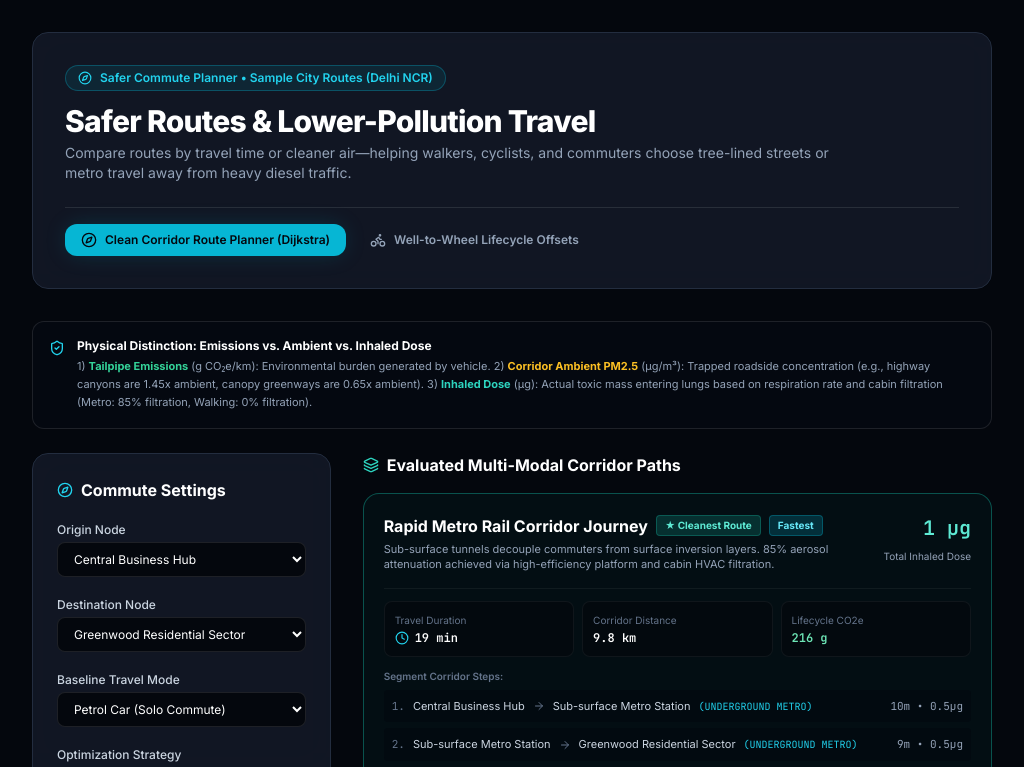
Interactive JSDOM Workbench Verification › MobilityWorkbench switches between Dijkstra routing and lifecycle offset tabs
Expected: the heading "Safer Routes & Lower-Pollution Travel" is shown, [65,103,595,139]
Click the button "Well-to-Wheel Lifecycle Offsets". click: (474, 240)
box: [354,224,595,256]
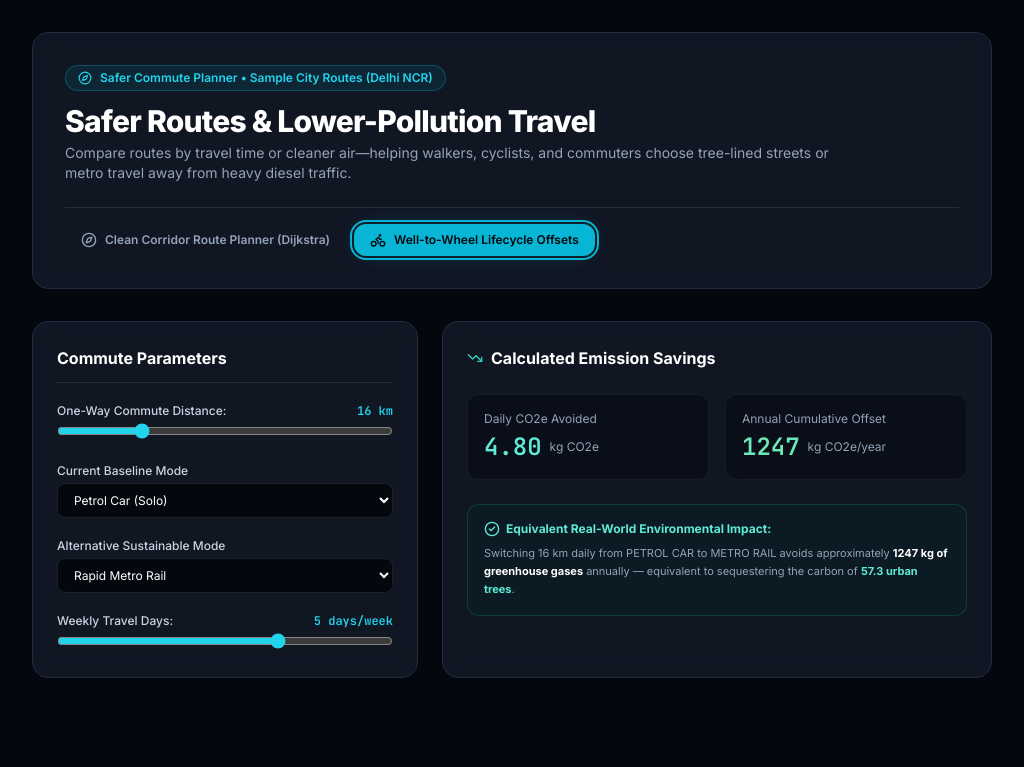
Expected: the text "One-Way Commute Distance:" is shown, [57,403,226,419]
Click the button "Clean Corridor Route Planner (Dijkstra)". click: (206, 240)
box: [65,224,346,256]
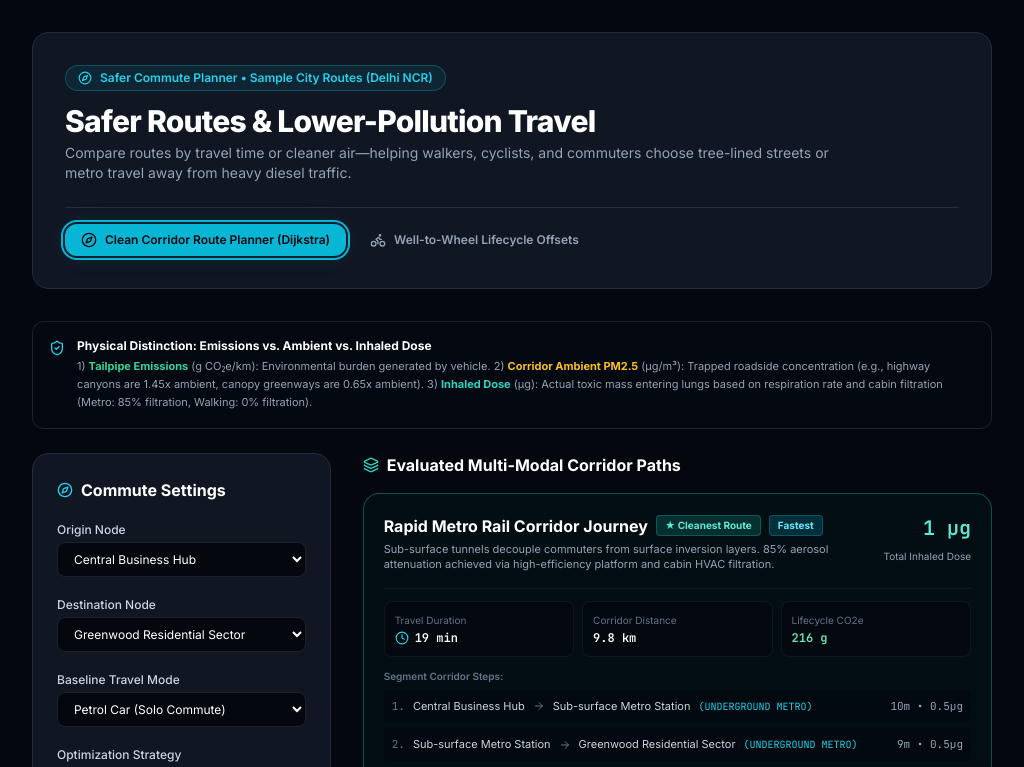
Expected: the text "Evaluated Multi-Modal Corridor Paths" is shown, [387,453,681,477]
